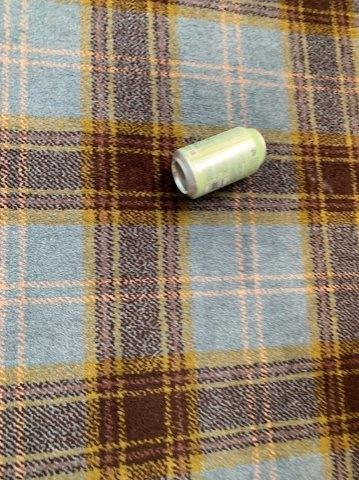kaleng: (172, 128, 265, 197)
